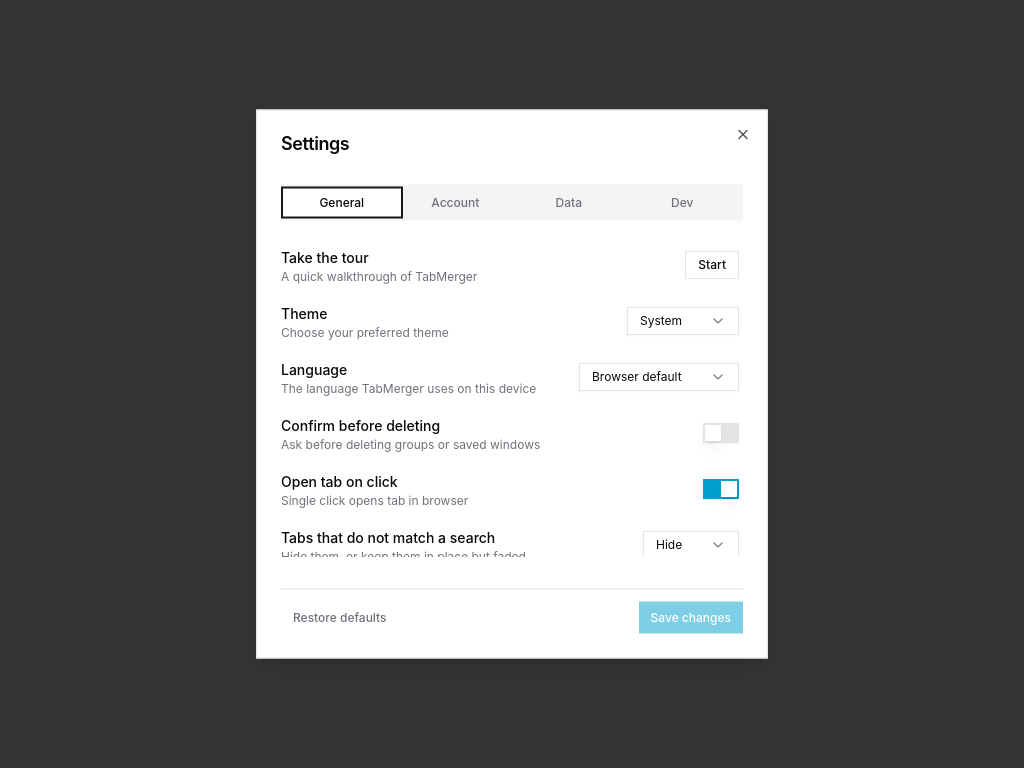
SettingsModal — dirty state and save › Restore defaults resets the draft back to defaults (Save becomes disabled again)
The width and height of the screenshot is (1024, 768).
Click the switch named "Confirm before deleting" at (721, 432), box [703,422,739,442]
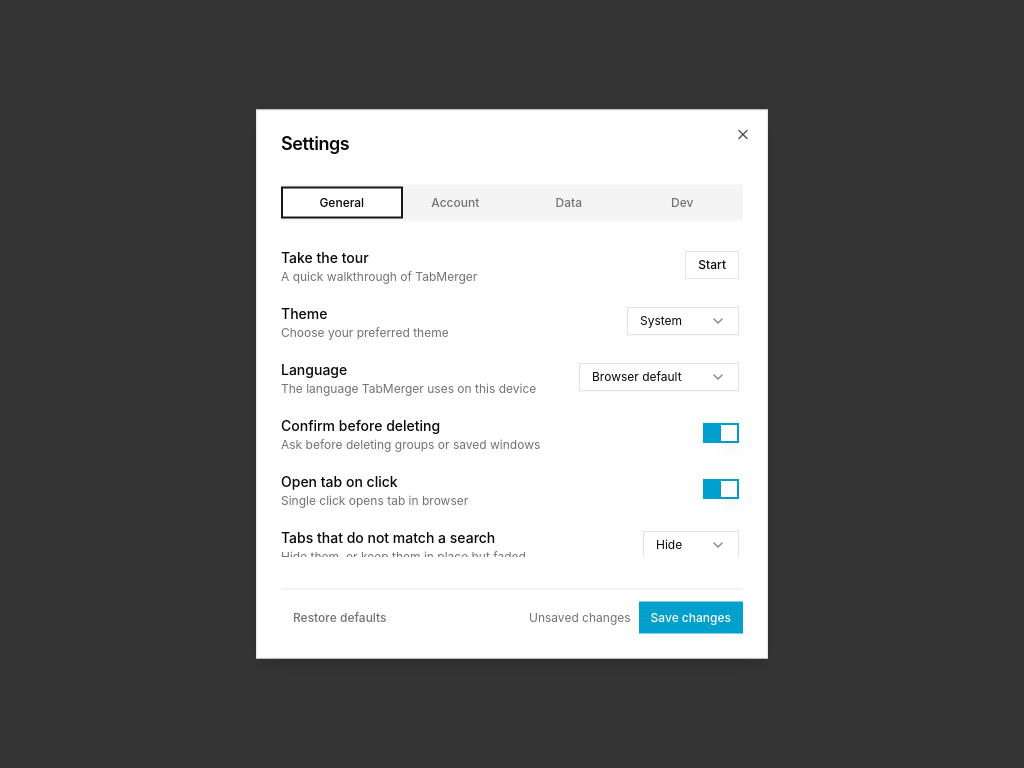
Check: the button "Save changes" is enabled, box [639,602,743,634]
Click the button "Restore defaults" at (340, 618), box [281,602,398,634]
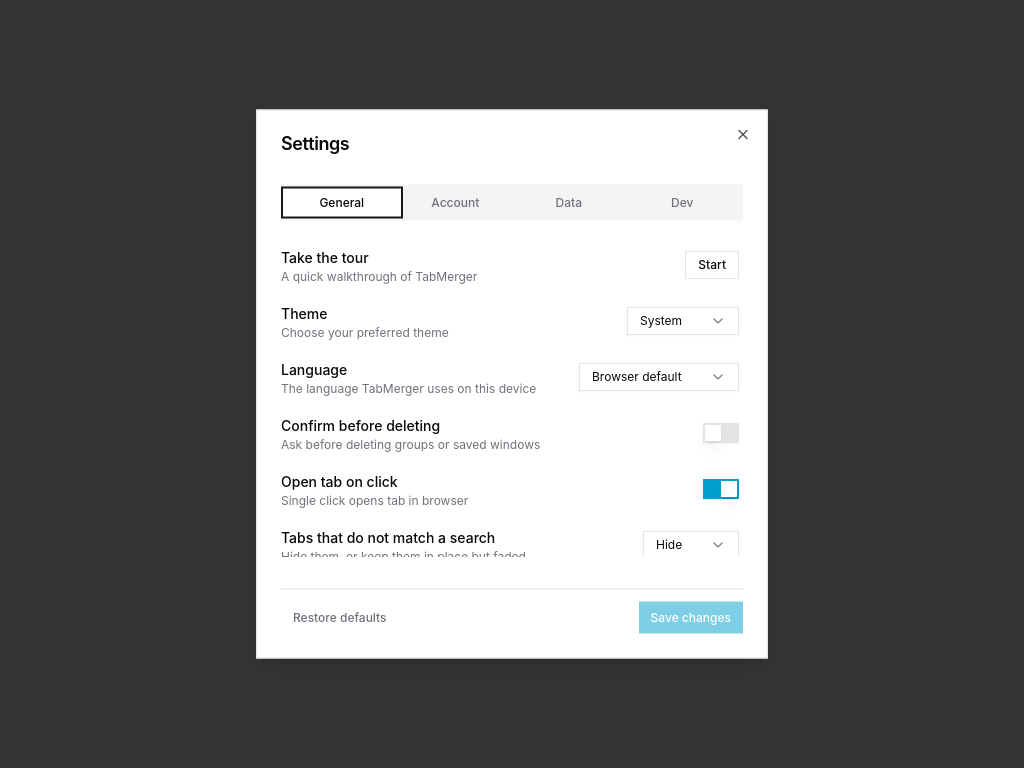
Check: the button "Save changes" is disabled, box [639,602,743,634]
